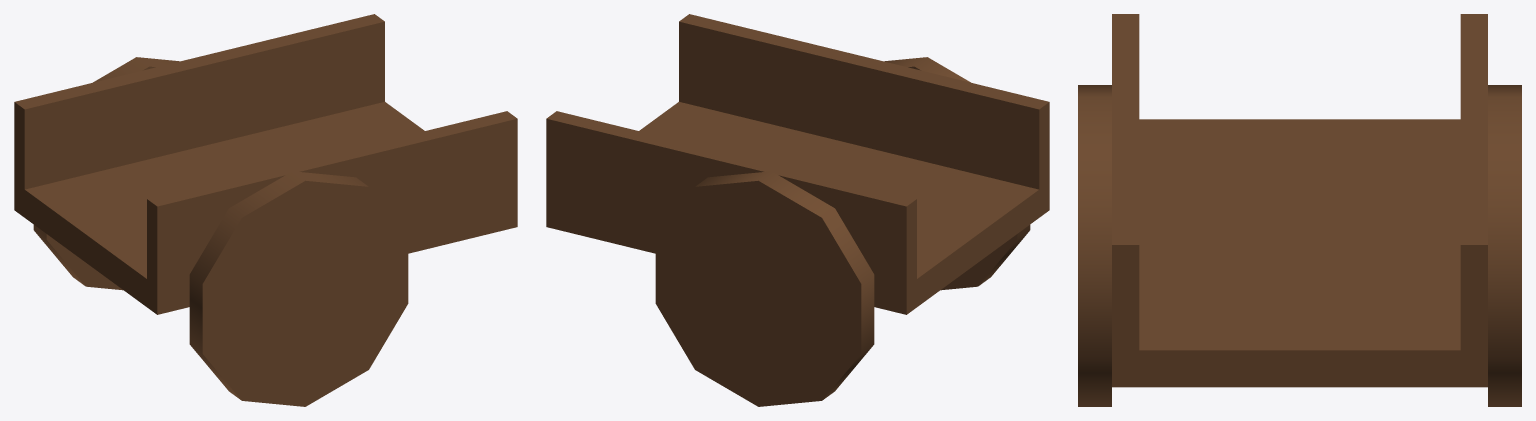
The model's file is cart_wooden.glb.
3 views of the same model, side by side, from view 1: azimuth 30°, elevation 25°; view 2: azimuth 150°, elevation 25°; view 3: azimuth 270°, elevation 25° (orthographic). The views are drawn at different scales.
Visible parts, largest first — view 1: WoodenCart; view 2: WoodenCart; view 3: WoodenCart.
Part boxes in pixels (bbox=[...]): WoodenCart: bbox=[14, 14, 517, 406]; WoodenCart: bbox=[546, 14, 1049, 406]; WoodenCart: bbox=[1078, 14, 1521, 406].
Size of the model in its own units: 1.6 by 0.96 by 1.3.
